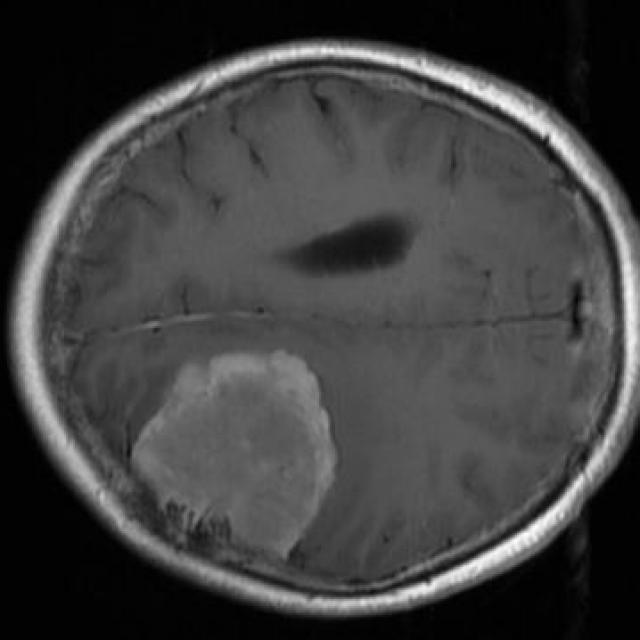meningioma: (130, 351, 335, 560)
